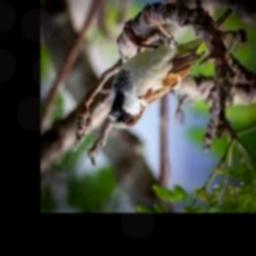Sparrow: (108, 15, 205, 129)
